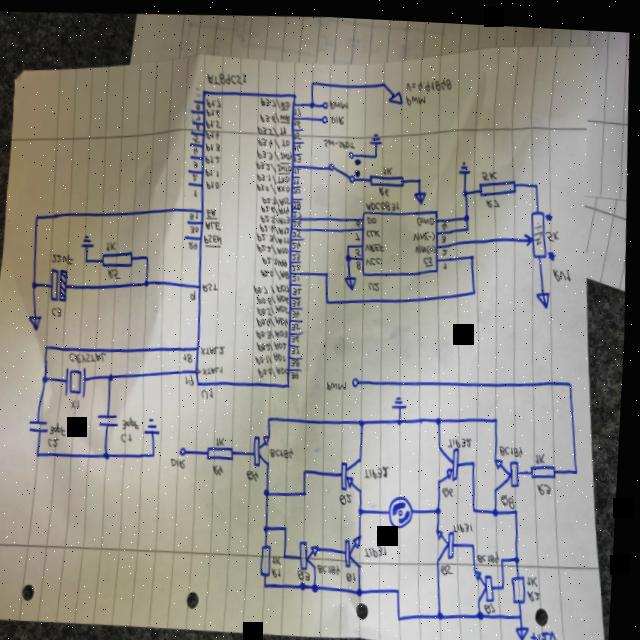capacitor: (51, 265, 72, 303), (99, 410, 123, 428), (32, 418, 54, 434)
ground: (147, 415, 166, 434), (394, 389, 411, 407), (459, 155, 473, 172), (82, 233, 97, 248), (369, 128, 383, 141)
junction: (267, 485, 276, 495), (438, 410, 447, 420), (361, 414, 370, 424), (482, 604, 491, 614), (464, 207, 472, 218), (326, 293, 334, 304), (439, 501, 447, 511), (463, 182, 471, 192), (497, 501, 505, 511), (325, 266, 333, 276), (146, 276, 153, 287), (362, 503, 369, 513), (317, 579, 324, 589), (400, 412, 407, 421), (496, 410, 503, 419), (473, 282, 480, 291), (443, 606, 450, 615), (34, 280, 41, 289), (362, 583, 368, 593), (417, 172, 424, 180), (570, 374, 577, 382), (108, 450, 115, 458), (111, 371, 117, 380), (39, 449, 45, 458), (36, 213, 42, 222), (46, 374, 52, 383), (518, 501, 524, 510), (519, 550, 525, 558), (268, 521, 274, 529), (155, 449, 161, 457), (401, 583, 407, 591), (474, 455, 480, 463), (85, 255, 91, 263), (306, 464, 312, 472), (270, 412, 276, 420), (310, 98, 316, 106), (267, 578, 273, 586), (577, 461, 583, 469), (146, 252, 152, 260), (306, 486, 312, 494), (471, 248, 477, 256), (310, 76, 316, 84), (476, 501, 482, 509), (402, 610, 408, 618), (347, 250, 353, 258), (505, 579, 511, 586), (524, 606, 529, 614), (475, 537, 481, 543), (535, 178, 540, 184), (374, 149, 379, 155), (47, 344, 52, 350), (505, 551, 509, 558), (288, 522, 292, 528), (467, 221, 471, 227), (288, 550, 292, 556), (382, 78, 386, 84), (348, 240, 352, 245)
resistor: (523, 204, 551, 254), (478, 173, 518, 193), (103, 247, 137, 267), (370, 169, 406, 184), (516, 569, 532, 598), (210, 443, 239, 459), (534, 457, 561, 474), (264, 541, 278, 573)
source: (345, 271, 361, 288), (538, 285, 553, 303), (31, 314, 46, 331), (521, 619, 536, 636), (415, 187, 428, 201)
switch: (328, 146, 358, 182)
terminal: (388, 86, 404, 102), (183, 444, 191, 454), (355, 373, 363, 383), (322, 112, 328, 121), (323, 98, 329, 106)
text: (406, 72, 452, 90), (206, 67, 248, 85), (256, 157, 293, 173), (260, 93, 293, 110), (261, 361, 293, 378), (72, 350, 110, 364), (258, 107, 291, 123), (257, 145, 294, 159), (258, 178, 292, 193), (258, 238, 291, 253), (258, 133, 291, 148), (367, 460, 395, 477), (259, 300, 293, 314), (258, 228, 292, 242), (256, 279, 292, 292), (258, 348, 289, 363), (258, 169, 291, 183), (536, 622, 564, 638), (259, 311, 291, 325), (263, 263, 292, 278), (259, 290, 292, 303), (262, 219, 292, 233), (263, 191, 293, 205), (259, 336, 291, 349), (367, 196, 401, 208), (258, 122, 287, 136), (369, 539, 393, 555), (324, 134, 356, 146), (259, 325, 291, 337), (503, 438, 528, 453), (53, 251, 76, 267), (482, 544, 505, 560), (262, 210, 292, 222), (262, 201, 291, 213), (274, 442, 298, 456), (322, 559, 346, 573), (451, 431, 476, 444), (554, 261, 574, 277), (124, 414, 144, 430), (264, 252, 290, 264), (405, 89, 427, 103), (504, 486, 521, 504), (203, 342, 228, 354), (206, 231, 224, 247), (53, 421, 71, 437), (329, 376, 351, 389), (415, 225, 437, 237), (534, 216, 545, 240), (206, 362, 227, 374), (367, 237, 387, 249), (418, 238, 438, 250), (458, 516, 478, 528), (330, 95, 349, 107), (174, 454, 190, 468), (366, 223, 383, 236), (482, 163, 499, 176), (418, 211, 436, 223), (367, 251, 384, 263), (532, 583, 547, 596), (205, 279, 221, 291), (206, 116, 222, 128), (344, 488, 357, 502), (303, 565, 317, 578), (546, 224, 561, 236), (541, 477, 556, 489), (109, 266, 124, 278), (207, 218, 223, 229), (206, 152, 222, 163), (446, 558, 459, 571), (206, 165, 221, 176), (206, 127, 221, 138), (207, 95, 222, 106), (206, 140, 222, 150), (446, 481, 459, 493), (351, 566, 363, 579), (251, 466, 263, 479), (124, 430, 137, 442), (205, 384, 217, 397), (489, 596, 502, 608), (532, 569, 544, 582), (331, 111, 345, 122), (539, 446, 550, 459), (217, 461, 228, 474), (207, 178, 221, 188), (487, 193, 501, 203), (207, 106, 221, 116), (208, 206, 220, 217), (188, 371, 198, 384), (51, 436, 64, 446), (186, 351, 197, 362), (54, 305, 65, 316), (277, 563, 287, 575), (425, 251, 435, 263), (370, 277, 381, 287), (220, 434, 230, 445), (380, 182, 390, 193), (108, 240, 118, 251), (277, 552, 287, 562), (74, 398, 84, 408), (384, 162, 394, 172), (190, 238, 200, 248), (294, 319, 304, 328), (294, 226, 304, 235), (293, 115, 302, 125), (368, 212, 378, 221), (294, 305, 302, 316), (191, 209, 200, 218), (295, 284, 305, 292), (293, 261, 303, 269), (294, 103, 302, 113), (191, 223, 201, 231), (192, 287, 198, 299), (294, 368, 303, 376), (294, 356, 303, 364), (294, 344, 303, 352), (294, 332, 303, 340), (295, 295, 303, 304), (294, 249, 302, 258), (294, 238, 303, 246), (294, 207, 303, 215), (294, 163, 302, 172), (294, 129, 303, 137), (295, 139, 302, 149), (356, 227, 363, 237), (294, 271, 302, 279), (295, 217, 303, 225), (294, 197, 302, 205), (194, 133, 202, 141), (294, 184, 303, 191), (443, 216, 449, 226), (358, 256, 364, 266), (295, 152, 302, 160), (357, 244, 364, 252), (294, 174, 300, 183), (444, 242, 450, 251), (442, 230, 448, 239), (193, 144, 199, 153), (193, 171, 199, 179), (194, 158, 200, 166), (444, 256, 449, 265), (194, 186, 199, 195), (357, 216, 362, 224), (196, 101, 201, 109), (196, 112, 202, 118), (197, 123, 201, 129)
transistor: (440, 438, 465, 480), (497, 452, 525, 488), (344, 452, 368, 490), (439, 523, 461, 559), (478, 563, 501, 597), (348, 529, 369, 566), (303, 536, 325, 569), (256, 430, 276, 465)
